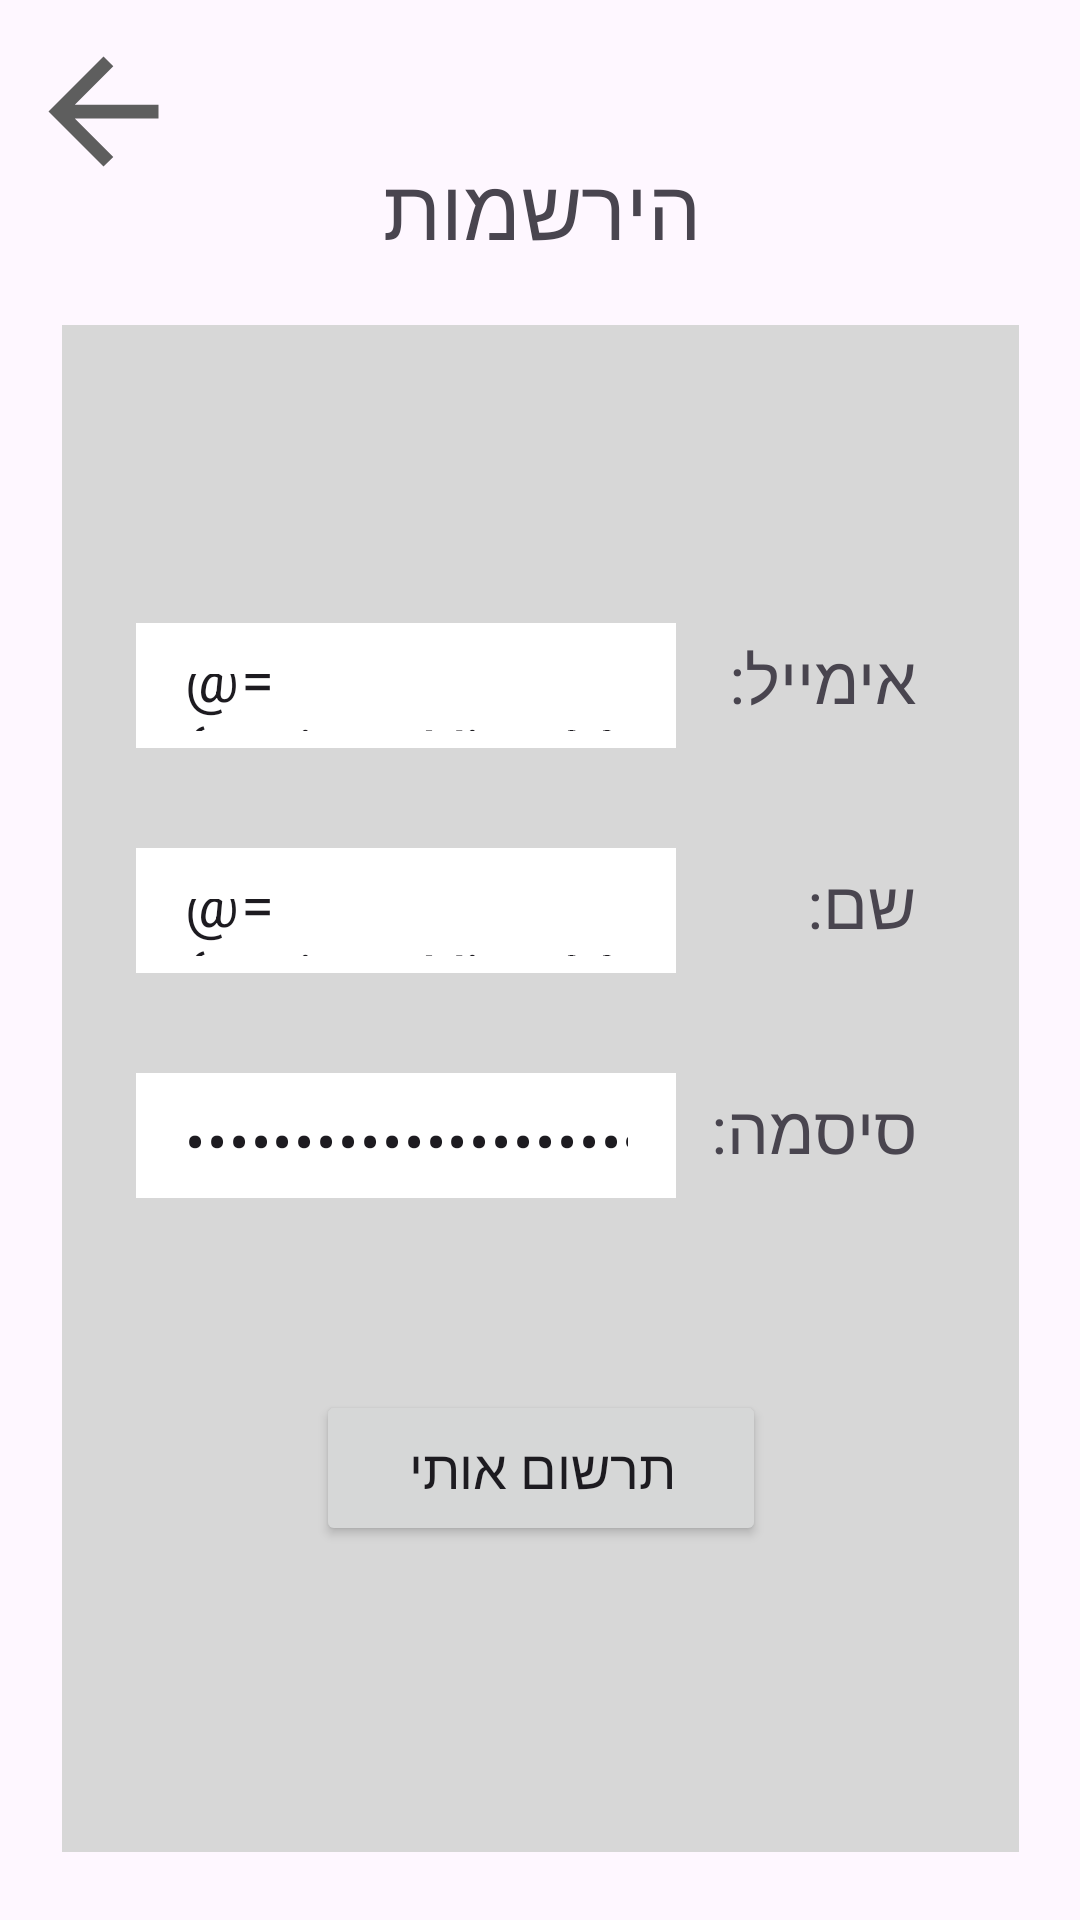

Screen size 1080 x 1920. Icon name, then its box in pixels as (x1, y1, x2, y2):
arrow back: (48, 56, 159, 167)
